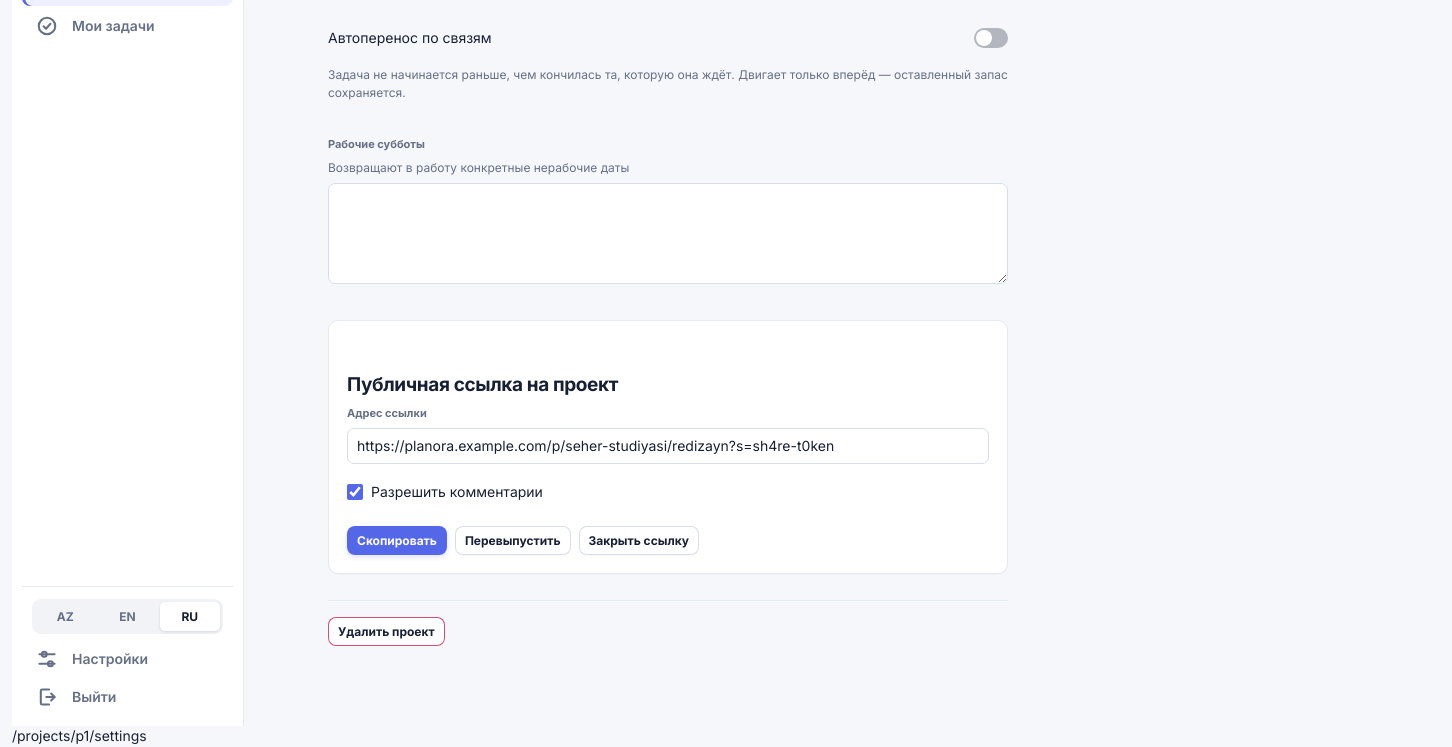
публичная ссылка в настройках проекта › перевыпуск идёт отдельным маршрутом, а не повторным выпуском
(page scrolled)
Click the button "Перевыпустить" at (513, 541), box [455,526,570,556]
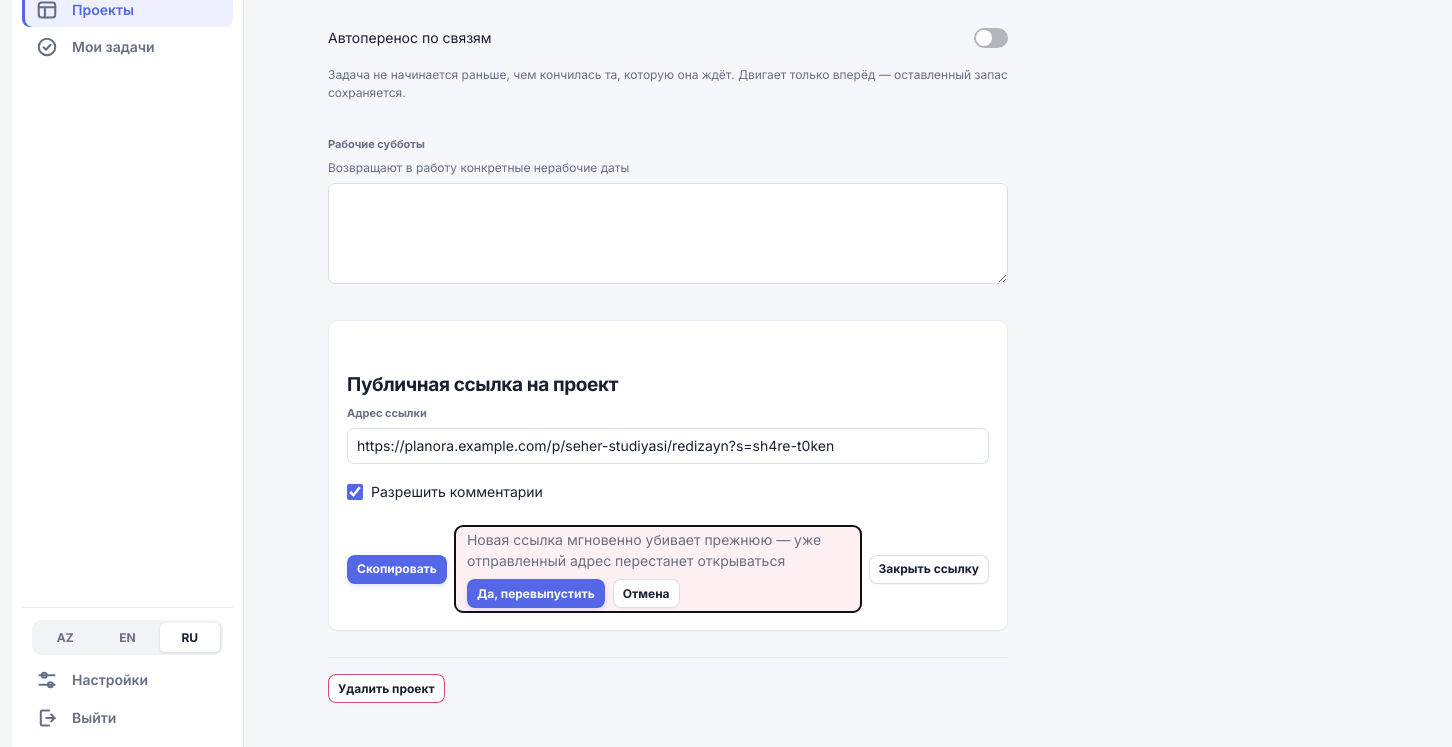
Note: Кнопка сперва спрашивает: разосланный адрес умирает мгновенно.
Click the button "Да, перевыпустить" at (536, 594), box [467,579,605,608]
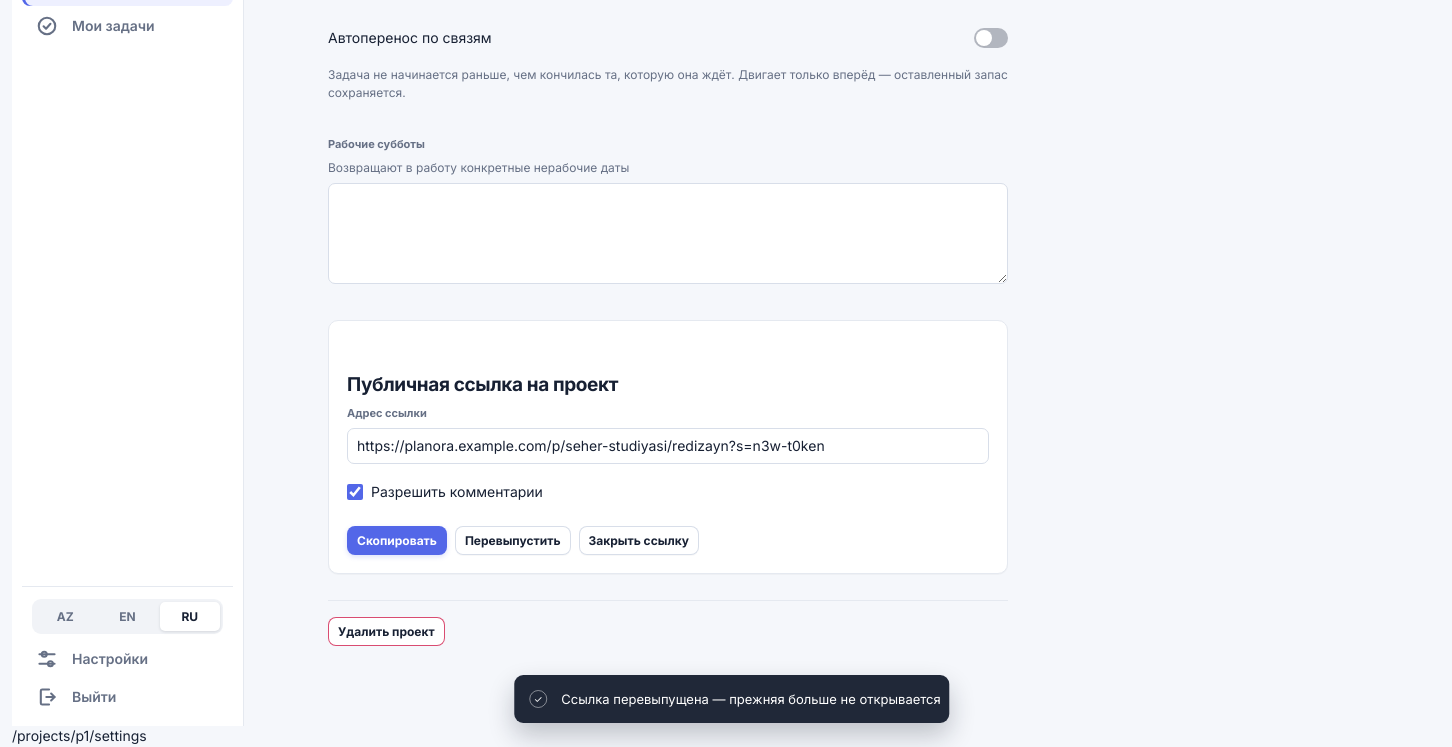
Now the field labelled "Адрес ссылки" holds "https://planora.example.com/p/seher-studiyasi/redizayn?s=n3w-t0ken", box [347,428,989,464]
